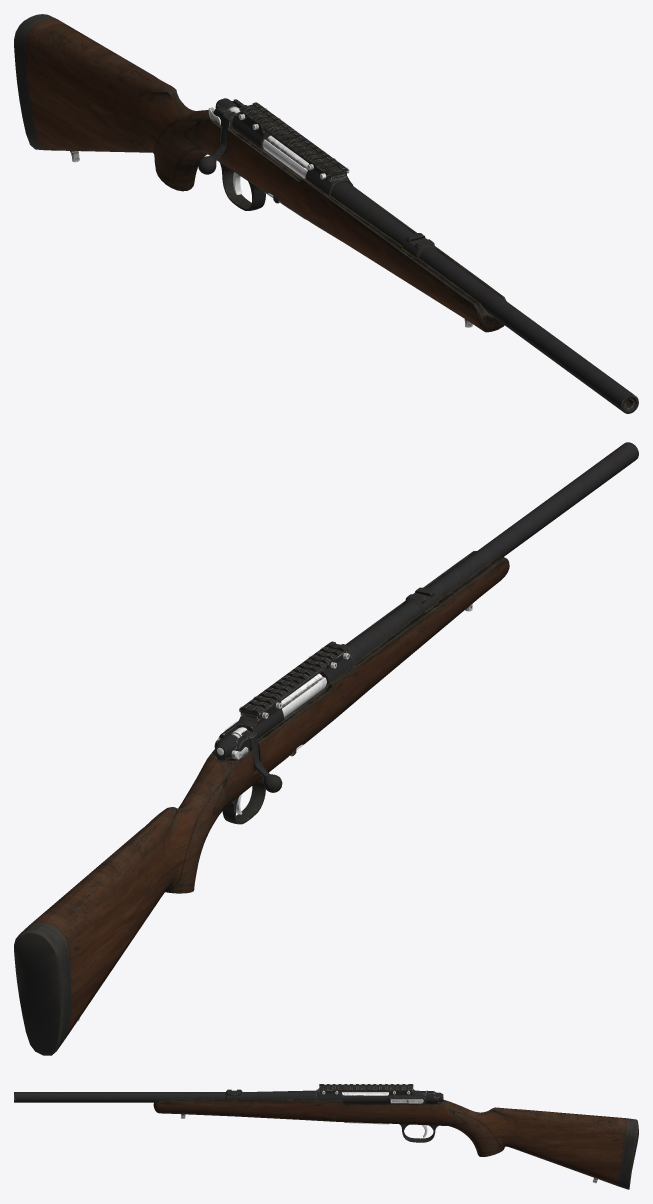
Rendered from ssg08.glb.
3 views of the same model, one above another, from view 1: azimuth 30°, elevation 25°; view 2: azimuth 150°, elevation 25°; view 3: azimuth 270°, elevation 25° (orthographic). The views are drawn at different scales.
Parts seen in each view (by area): view 1: Body_1, Body, Slide; view 2: Body_1, Body, Slide; view 3: Body_1, Body, Slide.
Part boxes in pixels (box(x1,y1,x2,y2)): Body_1: box(14, 14, 638, 413); Body: box(239, 102, 349, 180); Slide: box(198, 98, 308, 178); Body_1: box(14, 442, 638, 1055); Body: box(239, 641, 349, 720); Slide: box(215, 674, 326, 792); Body_1: box(14, 1088, 638, 1189); Body: box(319, 1084, 413, 1094); Slide: box(342, 1091, 443, 1102).
Bounding box in the file's own units: 0.0658 × 0.192 × 1.06.
Materials: 2 (1 with a texture image).
